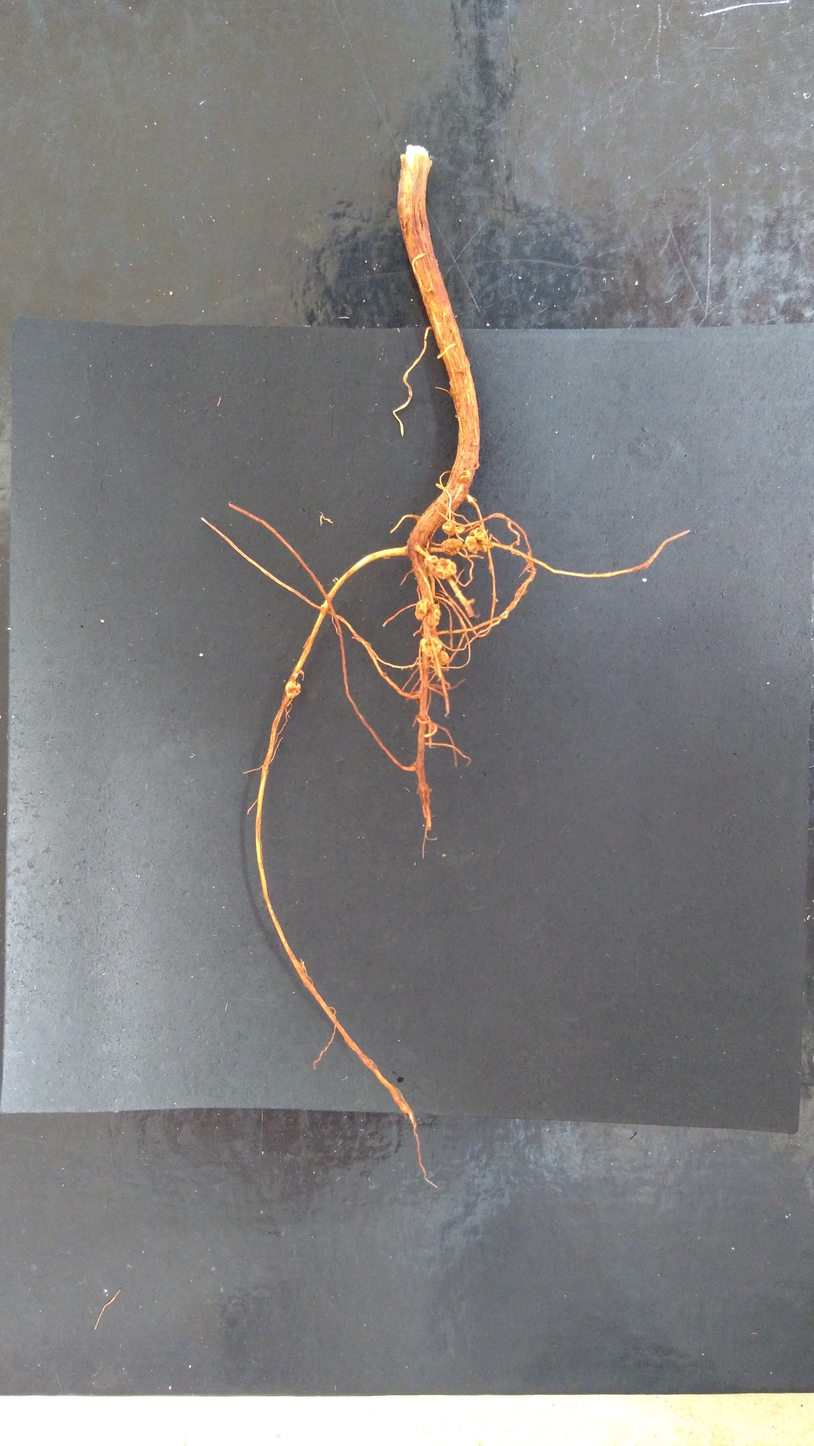nodule: (418, 637, 444, 658), (440, 537, 464, 557), (434, 557, 458, 576), (413, 596, 429, 622), (284, 679, 302, 699), (464, 535, 481, 553), (440, 520, 456, 537), (473, 526, 488, 542), (432, 603, 442, 627), (423, 554, 440, 568), (438, 650, 450, 667), (455, 524, 467, 534)
